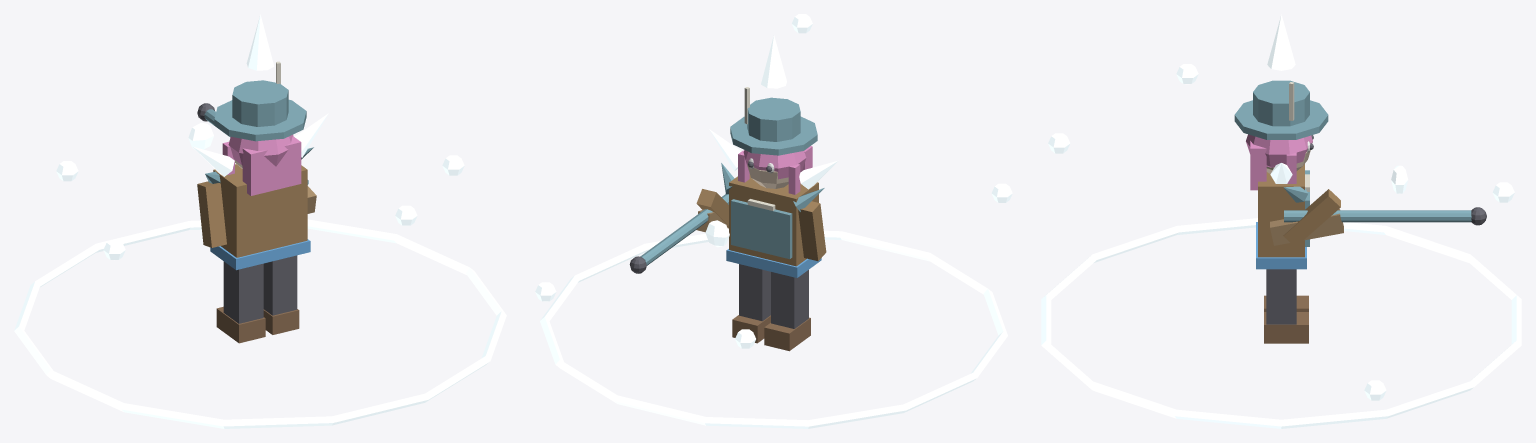
Rendered from evolved_musketeer.glb.
The picture shows the model from 3 angles, left to right: view 1: azimuth 30°, elevation 25°; view 2: azimuth 150°, elevation 25°; view 3: azimuth 270°, elevation 25°; orthographic projection. The views are drawn at different scales.
Parts seen in each view (by area): view 1: evolved_musketeer; view 2: evolved_musketeer; view 3: evolved_musketeer.
Part boxes in pixels (left/top/right/bottom): evolved_musketeer: left=14, top=14, right=506, bottom=428; evolved_musketeer: left=535, top=14, right=1012, bottom=428; evolved_musketeer: left=1041, top=14, right=1521, bottom=428.
Size of the model in its own units: 5.31 by 3.75 by 5.18.
